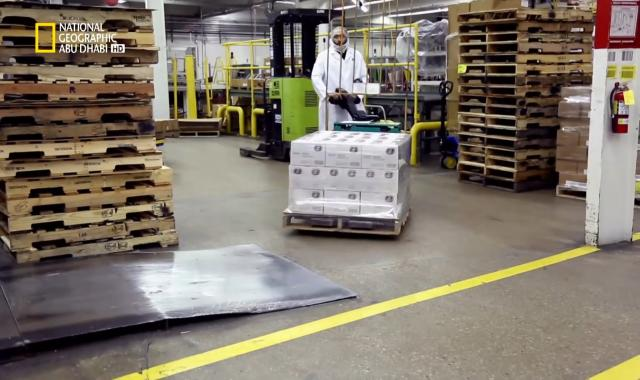hairnet: (328, 24, 350, 54)
